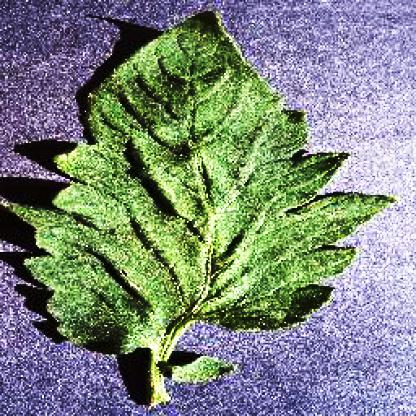Healthy: (0, 8, 400, 408)
